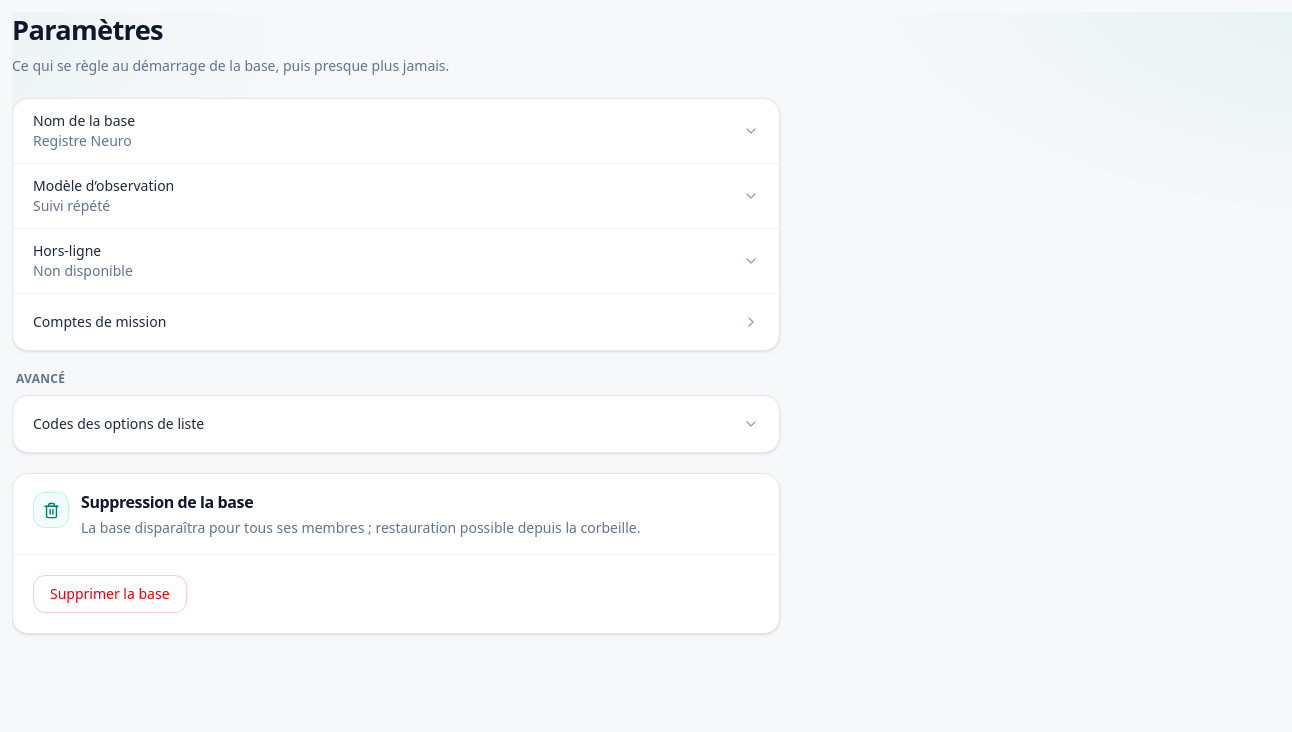
Test: BaseSettings — conversion des codes d options (L30) › convertir n est propose qu apres l analyse, et rejoue l apercu ensuite
Click the button "Codes des options de liste".
click(119, 424)  # box [13,396,779,452]
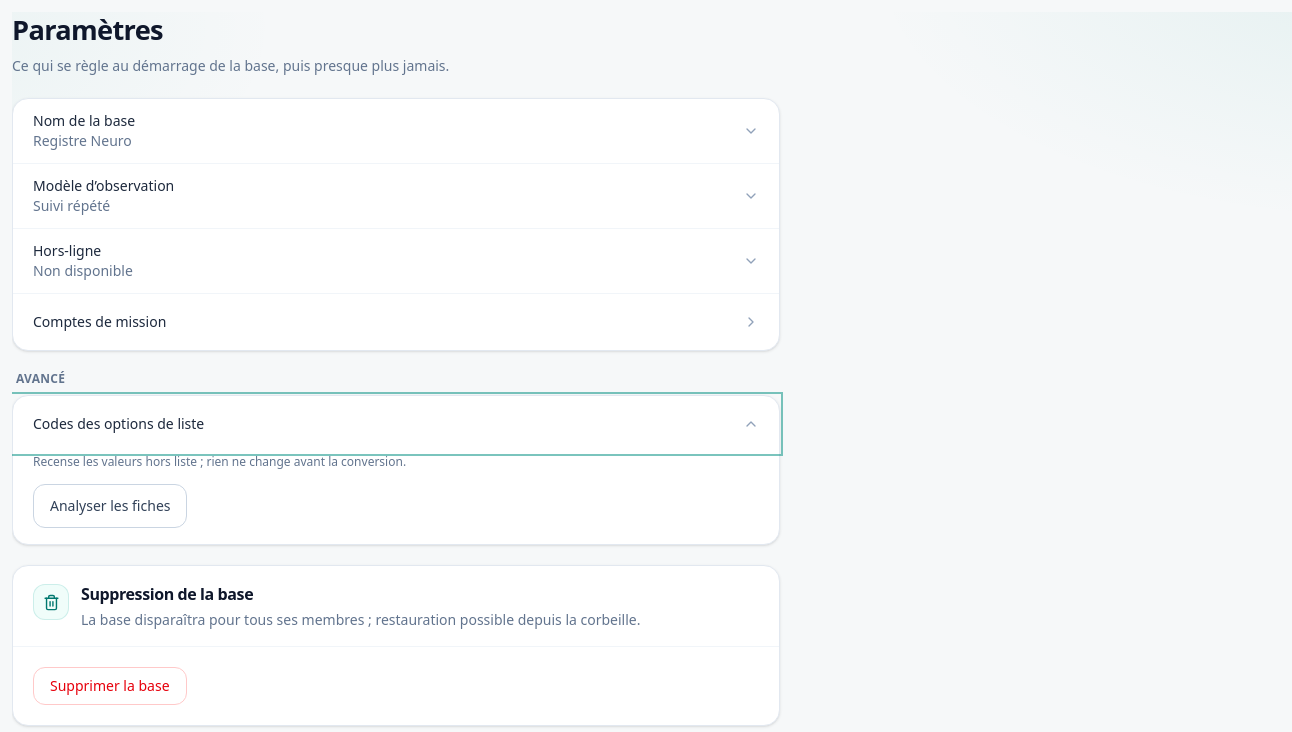
Expected: the button "Convertir les fiches" is not shown
Click the button "Analyser les fiches".
click(110, 506)  # box [33,484,188,528]
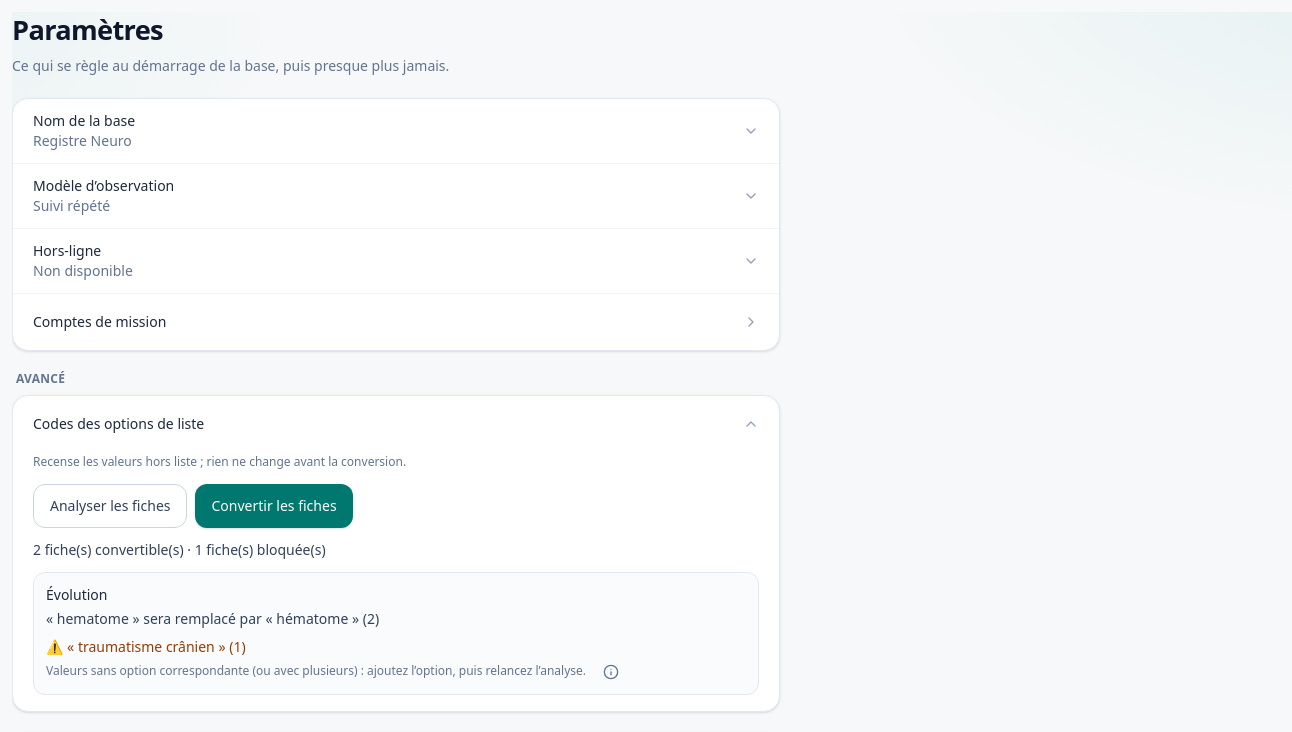
Click the button "Convertir les fiches".
click(274, 506)  # box [196,484,353,528]
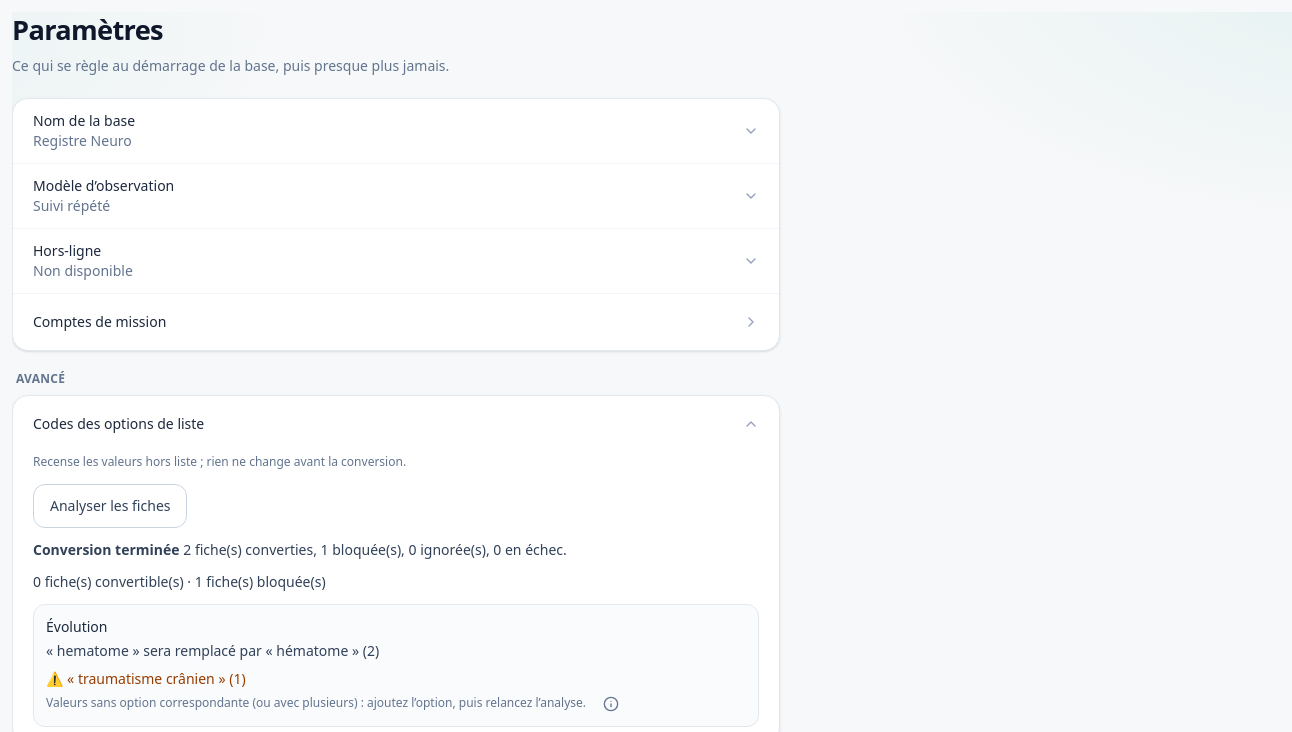
Result: the message shows "2 fiche(s) converties" at [183,540,567,559]
Result: the button "Convertir les fiches" is gone
